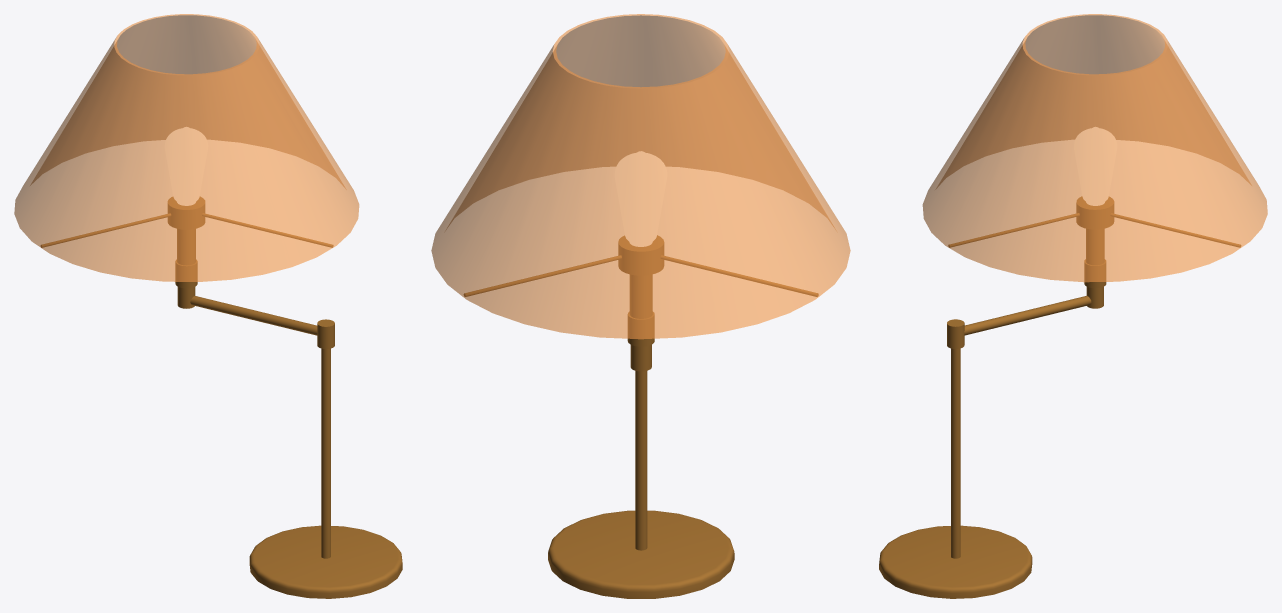
File: Desk_Lamp.glb
3 views of the same model, side by side, from view 1: azimuth 30°, elevation 25°; view 2: azimuth 150°, elevation 25°; view 3: azimuth 270°, elevation 25° (orthographic). The views are drawn at different scales.
Visible parts, largest first — view 1: Lamp0_Selectable; view 2: Lamp0_Selectable; view 3: Lamp0_Selectable.
Boxes of the visible parts, box(x1,y1,x2,y2) form: Lamp0_Selectable: box(14, 14, 402, 598); Lamp0_Selectable: box(431, 14, 850, 598); Lamp0_Selectable: box(879, 14, 1267, 598).
Bounding box in the file's own units: 0.3331 × 0.5193 × 0.375.
